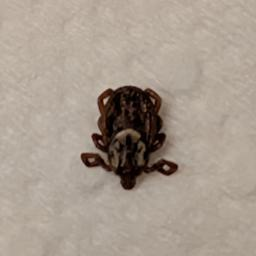Dermacentor variabilis: (78, 85, 180, 190)
